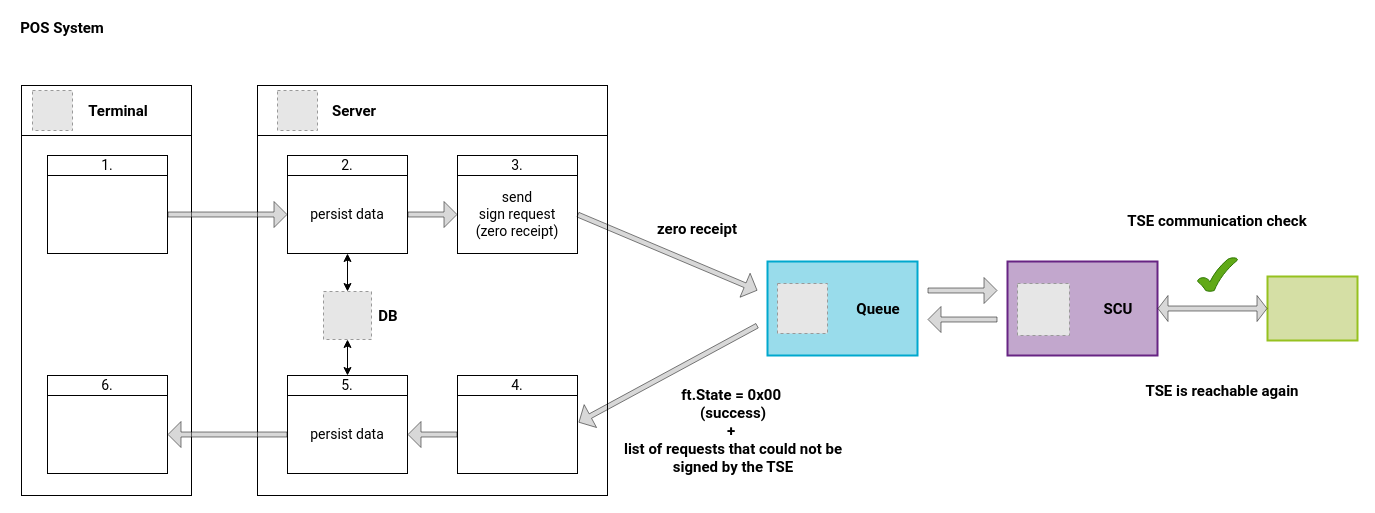
Some shapes in this 1375 by 513 pixel diagram are drawn without their labels. Grey dashed boxes stand in for pictures. The shapes that lost their labels are listed below. From the top down, each one's centre as x and y in pixels, then its label:
At (107,214): "trigger functionality (check TSE)".
At (1312,308): "TSE".
At (107,434): "compose and print receipt".
At (517,434): "process response".
